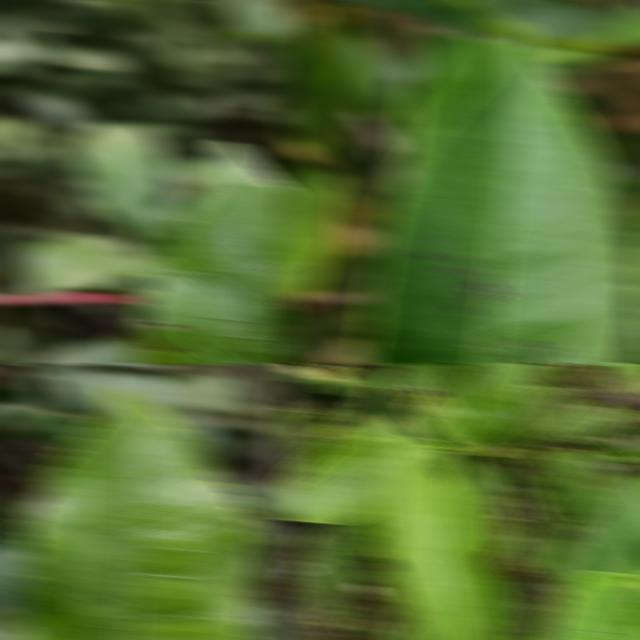Leaf: (357, 24, 640, 364), (16, 387, 262, 640), (131, 141, 295, 364), (383, 428, 503, 640), (395, 35, 506, 166), (66, 122, 177, 240), (281, 157, 351, 312), (291, 0, 361, 151), (13, 233, 162, 301), (557, 472, 640, 591), (281, 436, 390, 524), (541, 571, 640, 640), (303, 523, 368, 628), (485, 387, 581, 450), (449, 460, 507, 558), (463, 364, 550, 428), (386, 364, 472, 418), (443, 387, 516, 450), (552, 448, 603, 531), (404, 389, 463, 444), (0, 524, 37, 610), (26, 339, 144, 364), (513, 515, 560, 573), (307, 366, 394, 396), (281, 408, 336, 454), (340, 387, 388, 437), (485, 585, 528, 640), (570, 399, 624, 436), (537, 544, 580, 581), (407, 437, 452, 467), (523, 446, 557, 485), (0, 324, 22, 364)
